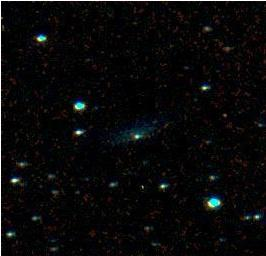star: (212, 99, 242, 129)
